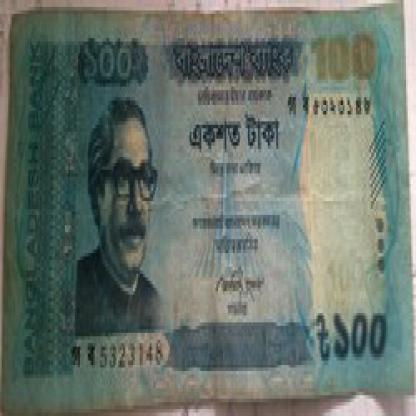one hundred taka: (76, 35, 144, 97), (310, 28, 381, 86), (333, 305, 393, 368)
